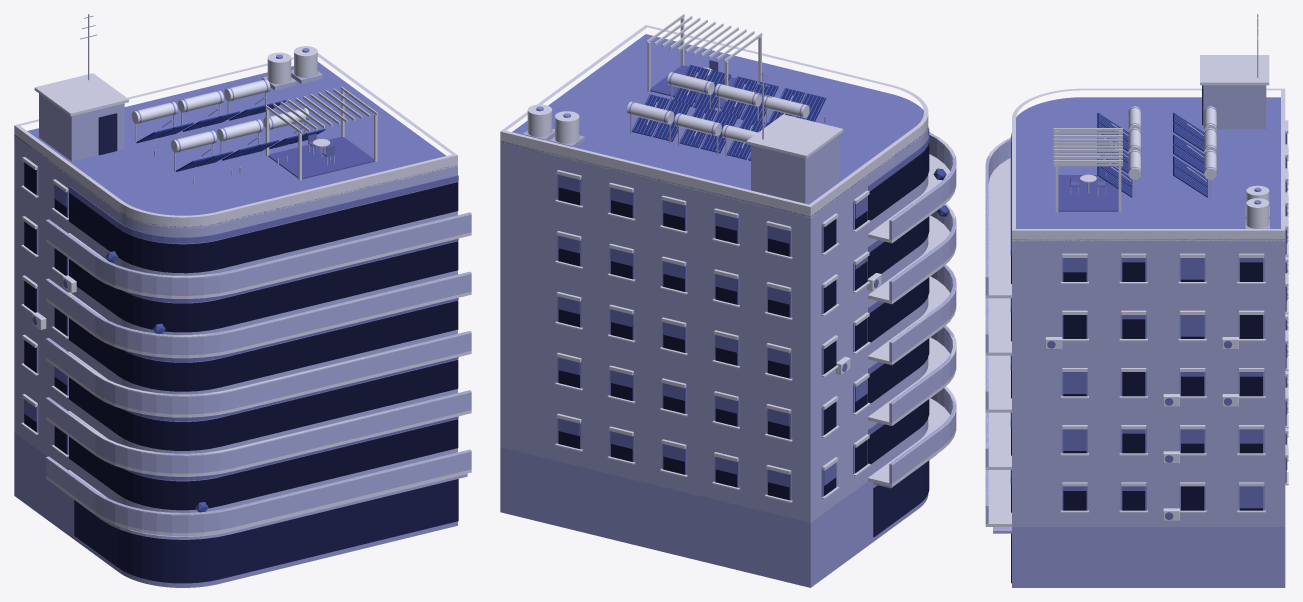
Rendered from blockD.glb.
3 renders of one model, left to right at view 1: azimuth 30°, elevation 25°; view 2: azimuth 150°, elevation 25°; view 3: azimuth 270°, elevation 25°, orthographic. The views are drawn at different scales.
Parts seen in each view (by area): view 1: baked2, baked4, baked6, baked8, baked1, baked5, baked0, baked11, baked13, baked10, baked12, baked3 (+1 smaller); view 2: baked2, baked6, baked0, baked8, baked4, baked5, baked3, baked10, baked11, baked1, baked12; view 3: baked2, baked6, baked8, baked0, baked4, baked5, baked3, baked10, baked11, baked13, baked12.
Part boxes in pixels (<box>): baked2: <box>14,93,471,539</box>; baked4: <box>24,162,458,510</box>; baked6: <box>14,53,471,536</box>; baked8: <box>14,62,456,228</box>; baked1: <box>74,479,458,583</box>; baked5: <box>24,175,458,480</box>; baked0: <box>14,433,457,587</box>; baked11: <box>131,46,317,152</box>; baked13: <box>268,136,374,179</box>; baked10: <box>136,100,325,171</box>; baked12: <box>80,14,334,184</box>; baked3: <box>24,48,310,454</box>; baked2: <box>500,126,956,522</box>; baked6: <box>500,14,956,502</box>; baked0: <box>500,447,928,587</box>; baked8: <box>500,34,927,217</box>; baked4: <box>558,135,929,500</box>; baked5: <box>558,127,929,487</box>; baked3: <box>536,65,867,500</box>; baked10: <box>632,65,826,160</box>; baked11: <box>527,72,809,143</box>; baked1: <box>873,460,929,537</box>; baked12: <box>522,71,825,157</box>; baked2: <box>985,85,1285,533</box>; baked6: <box>985,55,1288,526</box>; baked8: <box>1012,97,1284,241</box>; baked0: <box>1012,527,1285,587</box>; baked4: <box>1011,134,1286,512</box>; baked5: <box>1010,133,1287,519</box>; baked3: <box>1062,107,1286,510</box>; baked10: <box>1097,112,1207,197</box>; baked11: <box>1128,106,1269,228</box>; baked13: <box>1058,175,1118,211</box>; baked12: <box>1070,14,1269,228</box>.
Bounding box in the file's own units: 17.61 × 24.15 × 14.44.
